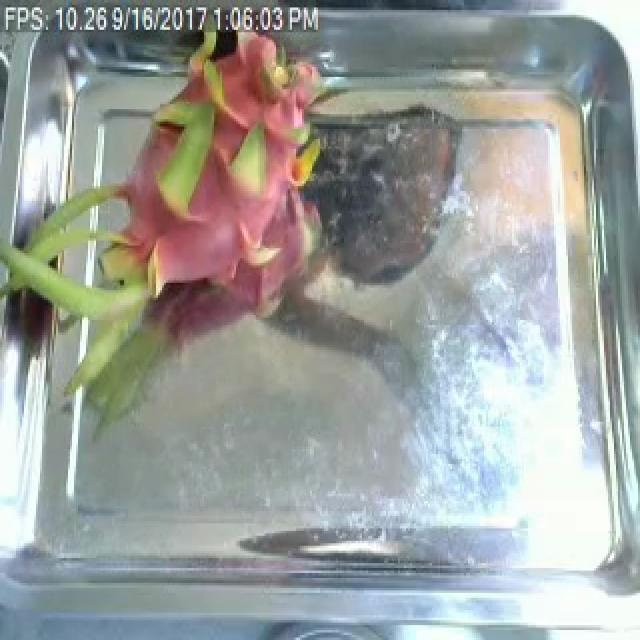fruit: (2, 2, 352, 407)
